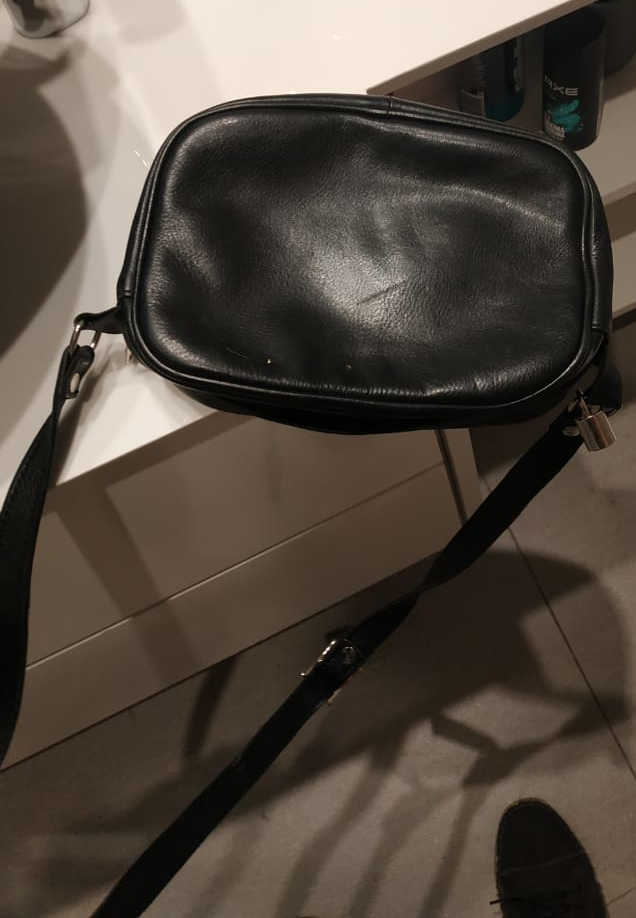cartera: (13, 40, 621, 892)
cuero: (32, 67, 607, 836)
